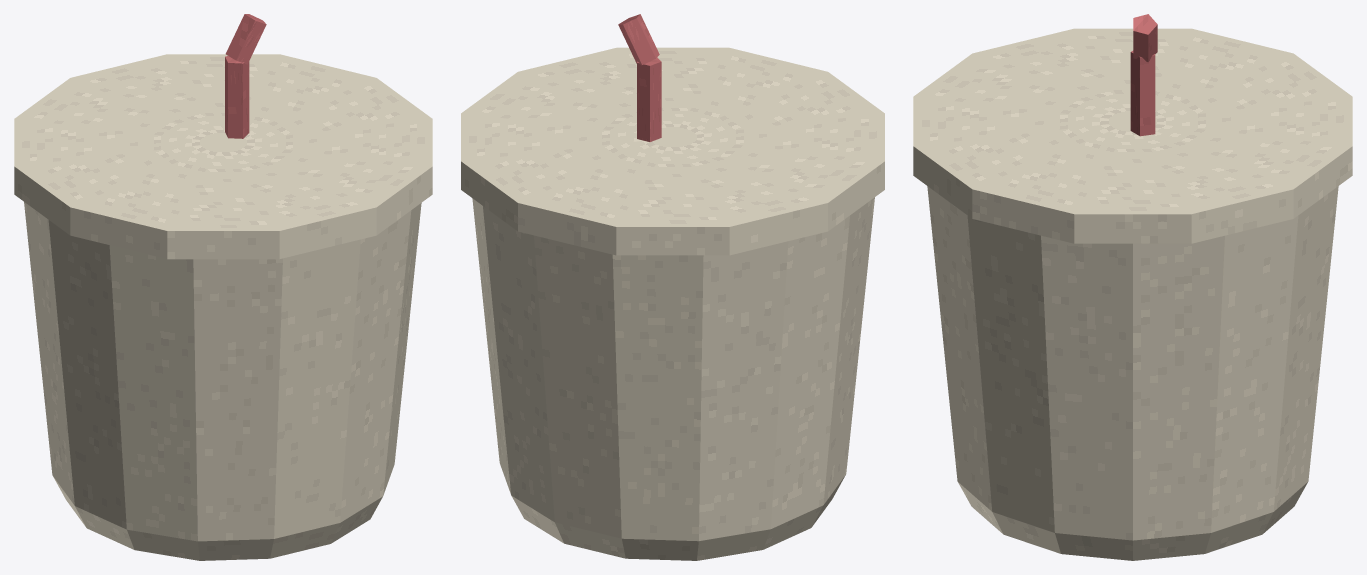
File: styrofoam_cup.glb
3 views of the same model, side by side, from view 1: azimuth 30°, elevation 25°; view 2: azimuth 150°, elevation 25°; view 3: azimuth 270°, elevation 25° (orthographic). The views are drawn at different scales.
Visible parts, largest first — view 1: block_hollow cup bowl, block_snap lid, block_straw 0, block_straw 1; view 2: block_hollow cup bowl, block_snap lid, block_straw 0, block_straw 1; view 3: block_hollow cup bowl, block_snap lid, block_straw 0, block_straw 1.
Boxes of the visible parts, left/top/right/bottom form: block_hollow cup bowl: left=24, top=202, right=421, bottom=560; block_snap lid: left=14, top=54, right=432, bottom=259; block_straw 0: left=225, top=56, right=249, bottom=138; block_straw 1: left=225, top=14, right=266, bottom=64; block_hollow cup bowl: left=472, top=197, right=874, bottom=560; block_snap lid: left=461, top=47, right=884, bottom=255; block_straw 0: left=637, top=57, right=661, bottom=141; block_straw 1: left=618, top=14, right=659, bottom=65; block_hollow cup bowl: left=927, top=186, right=1338, bottom=560; block_snap lid: left=913, top=28, right=1352, bottom=243; block_straw 0: left=1130, top=50, right=1155, bottom=136; block_straw 1: left=1133, top=14, right=1157, bottom=62.
Bounding box in the file's own units: 0.1318 × 0.1629 × 0.1318.
1 material, 1 textured.
